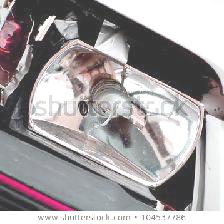head_lamp: (34, 32, 214, 195)
